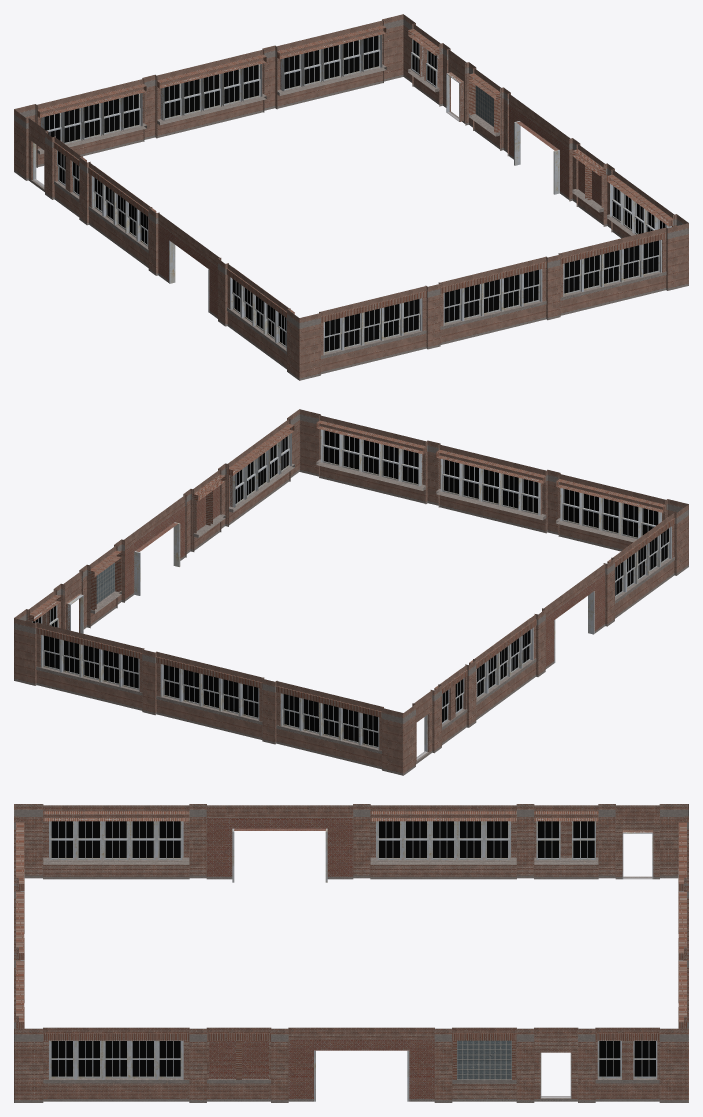
File: BuildingE_Bottom_Shell_VarB.fbx
The picture shows the model from 3 angles, top to bottom: view 1: azimuth 30°, elevation 25°; view 2: azimuth 150°, elevation 25°; view 3: azimuth 270°, elevation 25°; orthographic projection. The views are drawn at different scales.
Visible parts, largest first — view 1: BuildingE_Bottom_Shell_VarB; view 2: BuildingE_Bottom_Shell_VarB; view 3: BuildingE_Bottom_Shell_VarB.
Part boxes in pixels (x1=…): BuildingE_Bottom_Shell_VarB: x1=14, y1=14, x2=688, y2=380; BuildingE_Bottom_Shell_VarB: x1=14, y1=409, x2=688, y2=775; BuildingE_Bottom_Shell_VarB: x1=14, y1=804, x2=688, y2=1102.
Bounding box in the file's own units: 2600 × 400 × 3300.
